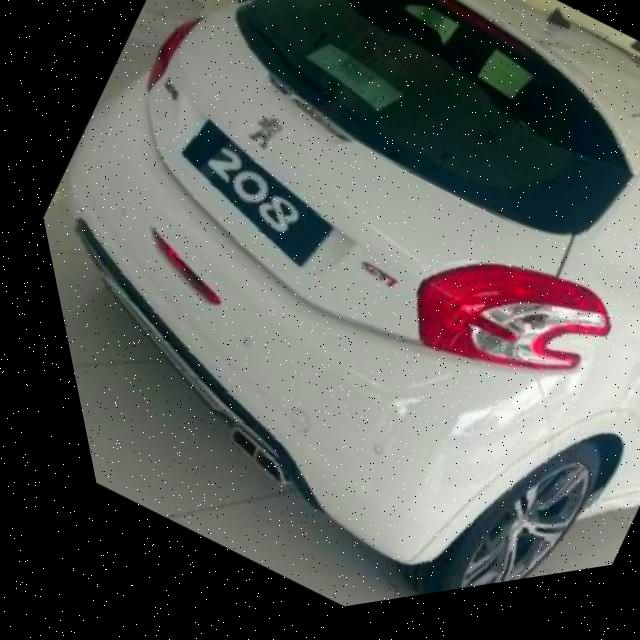license_plate: (138, 103, 352, 298)
